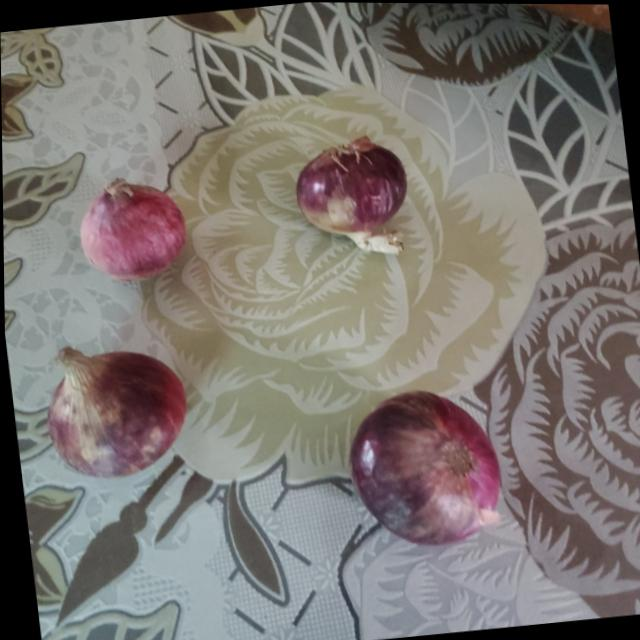onion: (341, 378, 507, 544), (34, 344, 191, 490), (75, 173, 189, 285), (290, 137, 410, 240)
